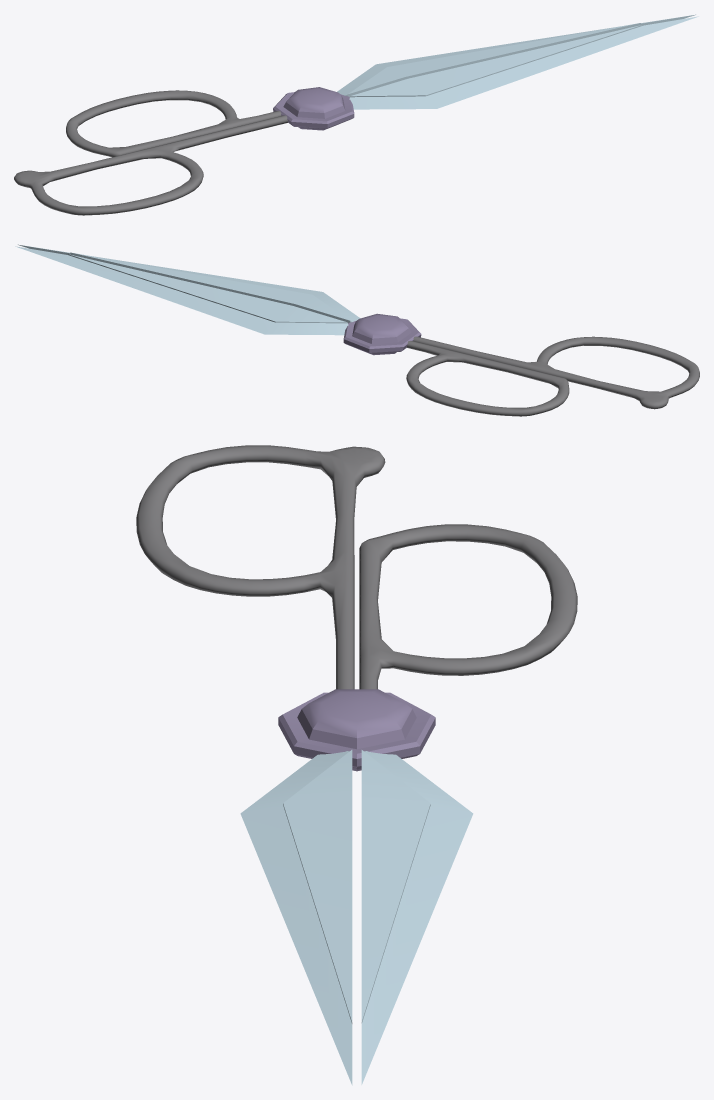
File: tijeraV2.fbx
3 renders of one model, top to bottom at view 1: azimuth 30°, elevation 25°; view 2: azimuth 150°, elevation 25°; view 3: azimuth 270°, elevation 25°, orthographic. The views are drawn at different scales.
Parts seen in each view (by area): view 1: polySurface3, pCube1, polySurface4, pCube2, pCylinder1; view 2: polySurface4, pCube1, polySurface3, pCube2, pCylinder1; view 3: polySurface3, polySurface4, pCube1, pCube2, pCylinder1.
Part boxes in pixels (box(x1,y1,x2,y2)): polySurface3: box(349, 16, 698, 109); pCube1: box(14, 115, 287, 215); polySurface4: box(337, 14, 695, 96); pCube2: box(66, 90, 281, 157); pCylinder1: box(273, 87, 354, 130); polySurface4: box(15, 246, 348, 335); pCube1: box(413, 336, 699, 409); polySurface3: box(18, 244, 360, 322); pCube2: box(406, 341, 569, 416); pCylinder1: box(343, 313, 421, 355); polySurface3: box(240, 750, 352, 1085); polySurface4: box(361, 750, 473, 1084); pCube1: box(136, 445, 385, 689); pCube2: box(359, 524, 577, 689); pCylinder1: box(278, 689, 435, 771).
Bounding box in the file's own units: 10.78 × 0.421 × 3.16.
